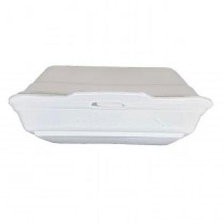foam_box: (3, 58, 216, 157)
